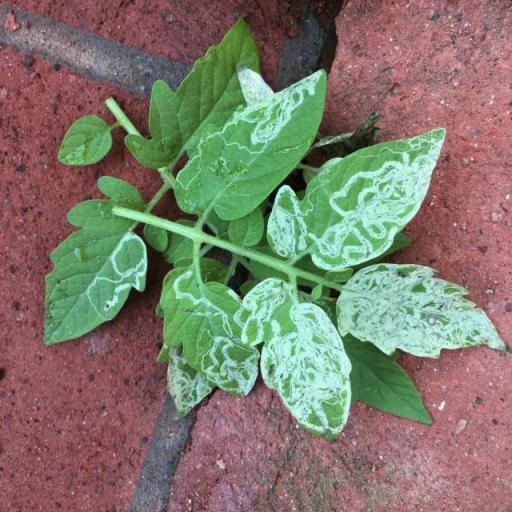disease_tomato: (266, 125, 446, 276), (178, 67, 328, 220), (239, 278, 357, 442), (44, 176, 154, 344), (335, 263, 511, 360), (158, 260, 258, 394)
